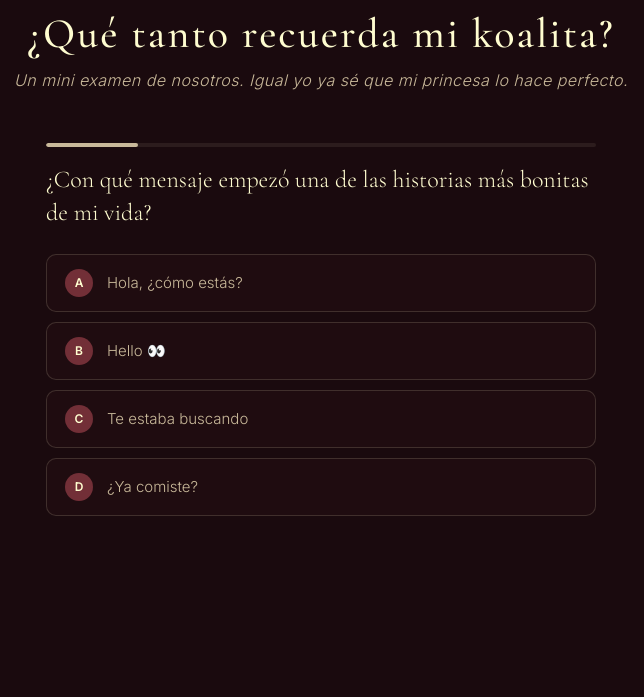
Test: Trivia › shows the next question button after answering
Click the radio button labelled "A Hola, ¿cómo estás?" at point(175, 283), box [46,254,596,312]
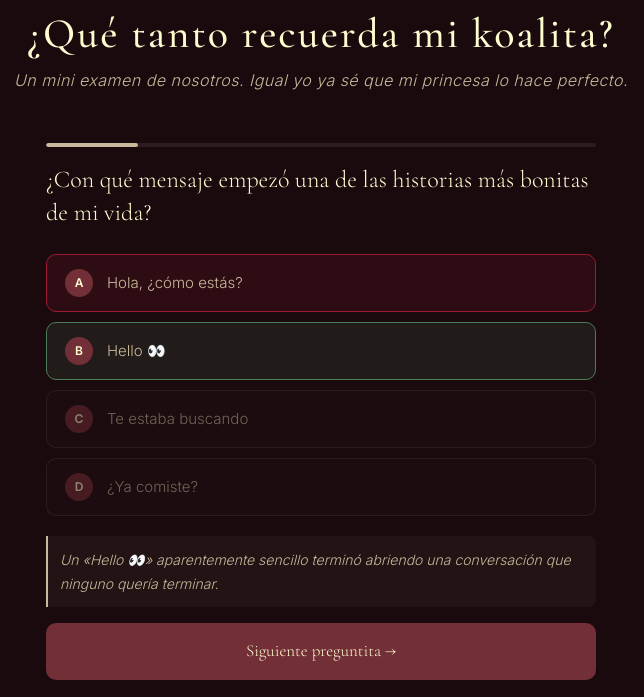
Expected: the button "Siguiente preguntita →" is shown, [46,623,596,680]
